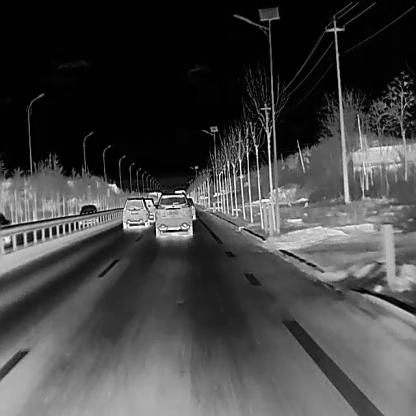car: (152, 191, 194, 238), (120, 194, 148, 228), (78, 203, 98, 226), (0, 211, 10, 249), (143, 196, 155, 223), (186, 196, 195, 219)
